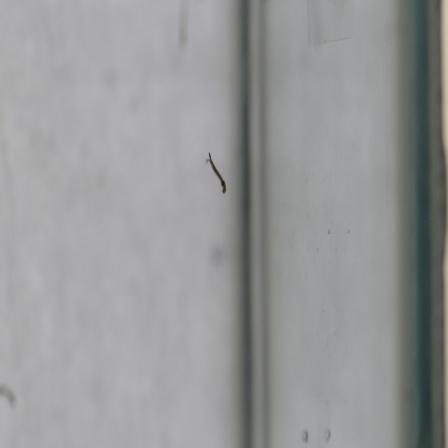Jentik-Nyamuk: (203, 147, 231, 198)
